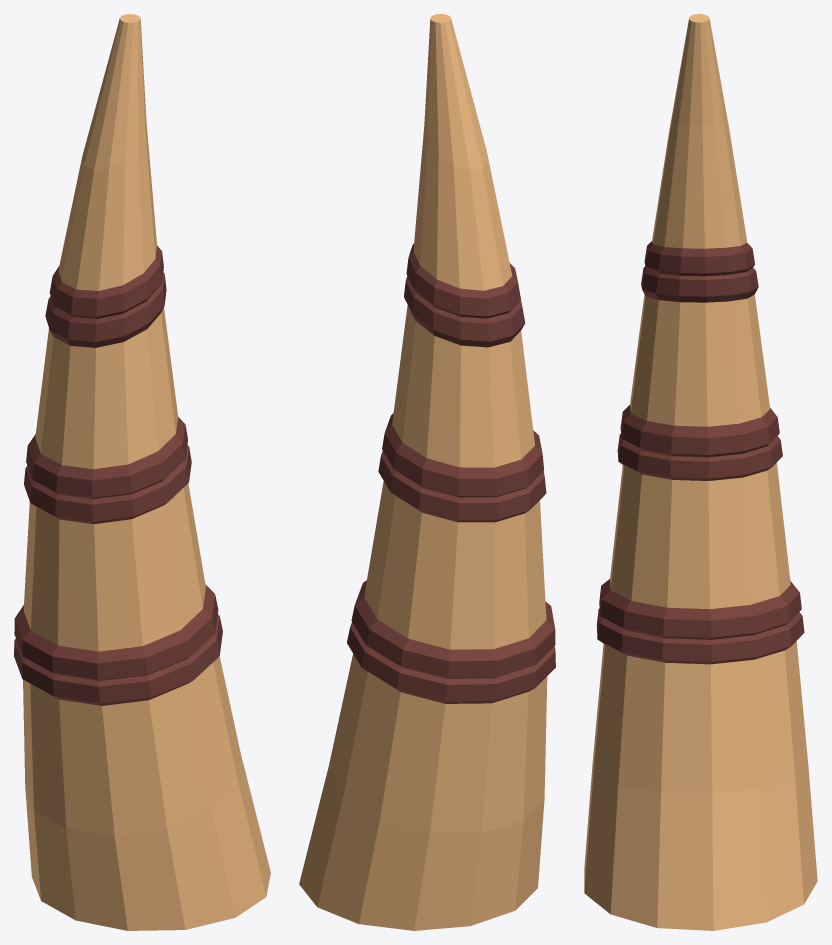
Rendered from Tusk 05.fbx.
3 views of the same model, side by side, from view 1: azimuth 30°, elevation 25°; view 2: azimuth 150°, elevation 25°; view 3: azimuth 270°, elevation 25° (orthographic).
Parts seen in each view (by area): view 1: Tusk 05; view 2: Tusk 05; view 3: Tusk 05.
Boxes of the visible parts, left/top/right/bottom form: Tusk 05: left=14, top=14, right=270, bottom=930; Tusk 05: left=299, top=14, right=555, bottom=930; Tusk 05: left=584, top=14, right=817, bottom=930.
Size of the model in its own units: 76.89 by 281 by 69.76.
